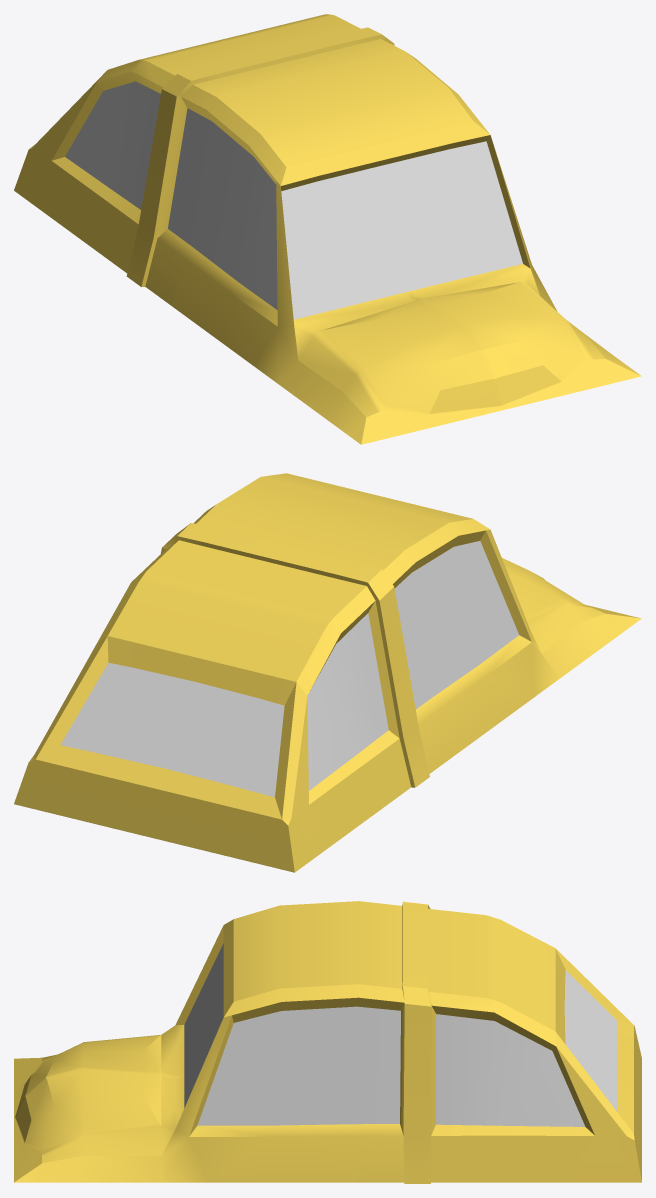
File: VINTAGE-TOP-VhttDYdR.glb
3 views of the same model, one above another, from view 1: azimuth 30°, elevation 25°; view 2: azimuth 150°, elevation 25°; view 3: azimuth 270°, elevation 25° (orthographic). The views are drawn at different scales.
Size of the model in its own units: 1.54 by 1.01 by 3.21.
1 material, 1 textured.
